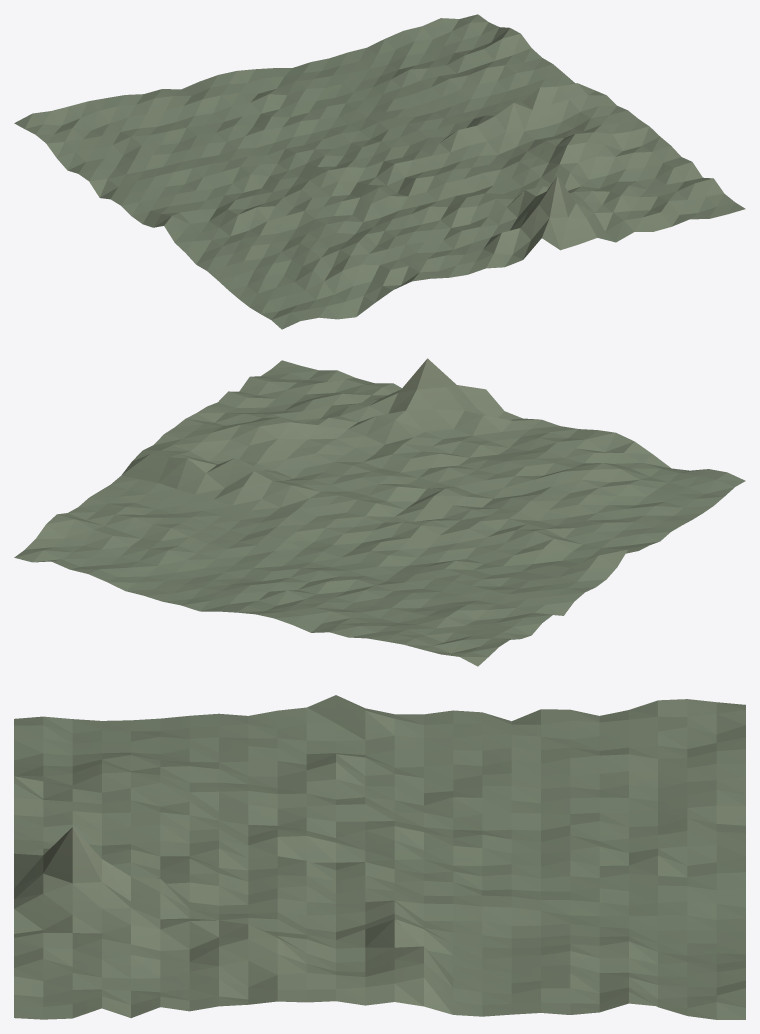
Rendered from tile_1_1.glb.
3 views of the same model, one above another, from view 1: azimuth 30°, elevation 25°; view 2: azimuth 150°, elevation 25°; view 3: azimuth 270°, elevation 25° (orthographic). The views are drawn at different scales.
Visible parts, largest first — view 1: geometry_0; view 2: geometry_0; view 3: geometry_0.
Boxes of the visible parts, x1,y1,x2,y2 form: geometry_0: (14, 14, 745, 329); geometry_0: (14, 358, 745, 666); geometry_0: (14, 695, 745, 1019).
Bounding box in the file's own units: 123 × 18.07 × 123.
